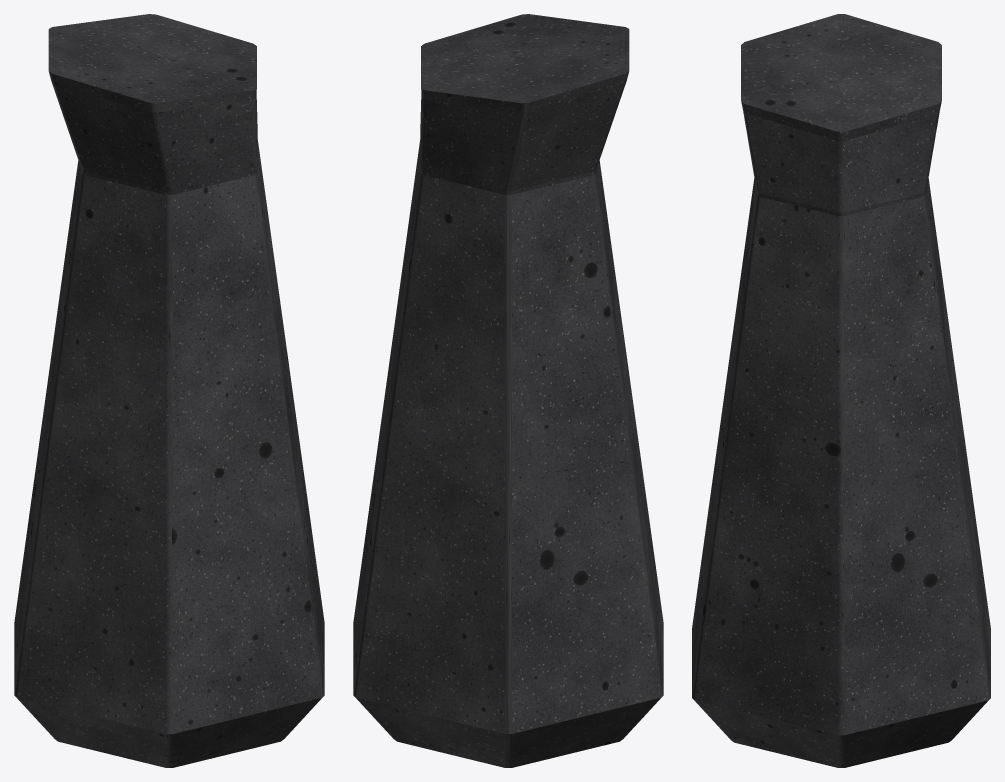
Rendered from knight-black.glb.
The picture shows the model from 3 angles, left to right: view 1: azimuth 30°, elevation 25°; view 2: azimuth 150°, elevation 25°; view 3: azimuth 270°, elevation 25°; orthographic projection. The views are drawn at different scales.
Parts seen in each view (by area): view 1: HEXALITH_black_knight; view 2: HEXALITH_black_knight; view 3: HEXALITH_black_knight.
Part boxes in pixels (x1,y1,x2,y2): HEXALITH_black_knight: (14, 14, 324, 767); HEXALITH_black_knight: (353, 14, 663, 767); HEXALITH_black_knight: (692, 14, 990, 767).
Bounding box in the file's own units: 0.5372 × 1.12 × 0.4705.
1 material, 1 textured.
